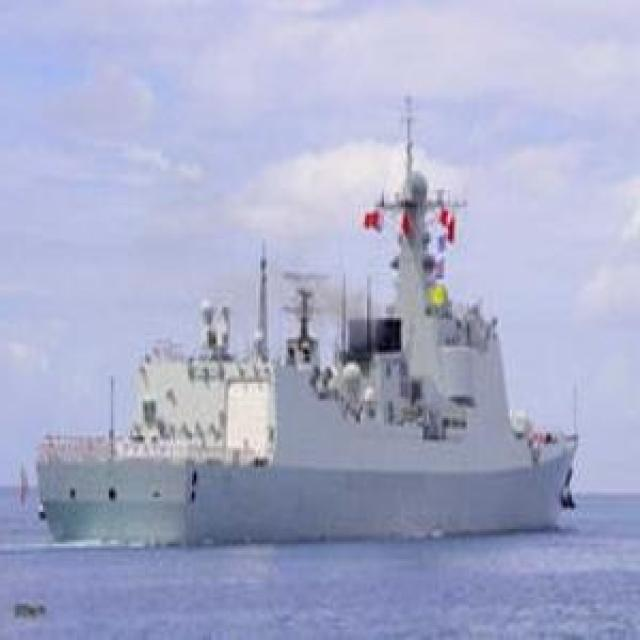navalvessels: (30, 101, 580, 552)
